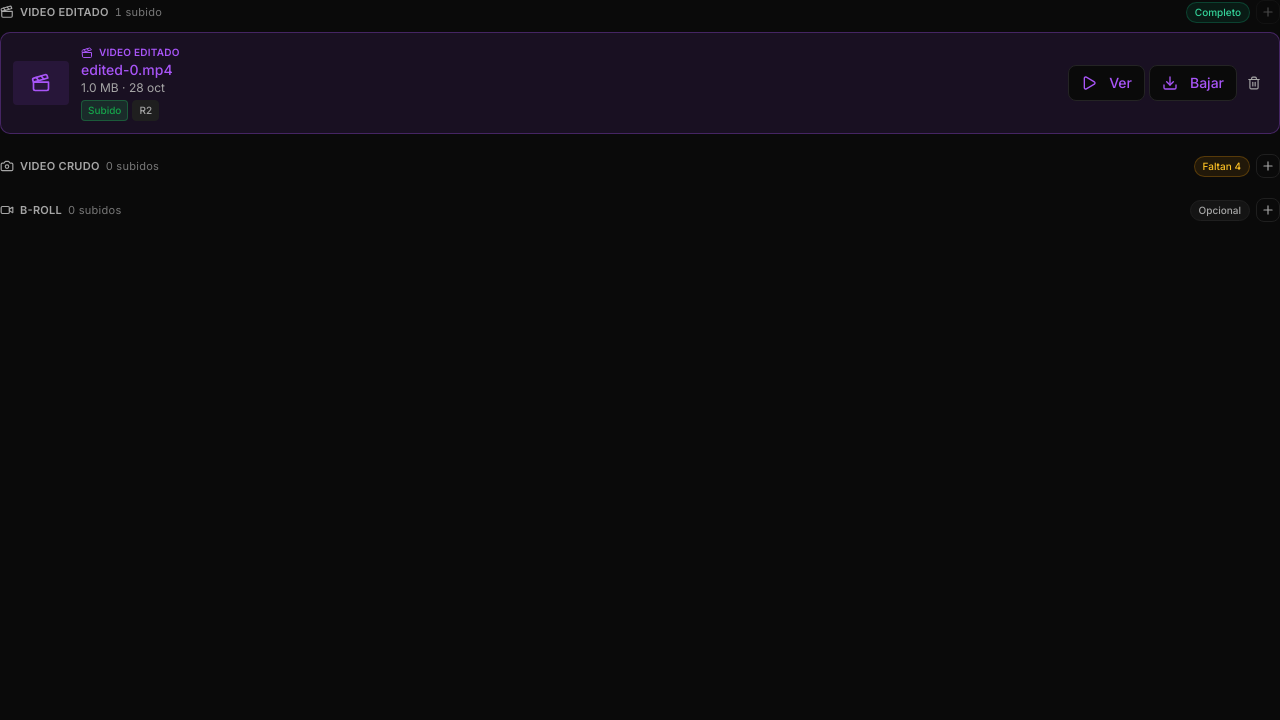
IdeaVideoPanel — borrar con confirmación propia + deshacer (no window.confirm) › clicking "Eliminar" opens the confirm dialog instead of window.confirm, and does nothing yet
Click the button named "Eliminar". click: click(1254, 83)
box: [1241,70,1267,96]
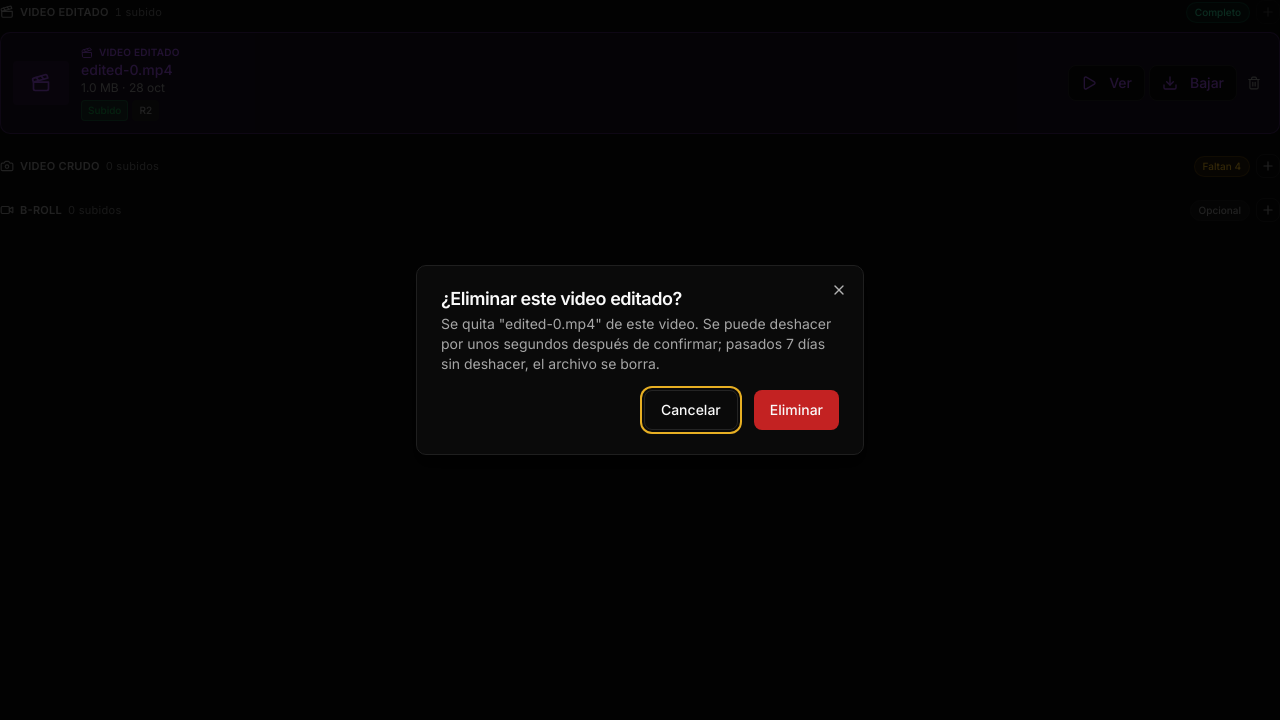
Expected: the heading "¿Eliminar este video editado?" is shown, [441,288,682,309]
